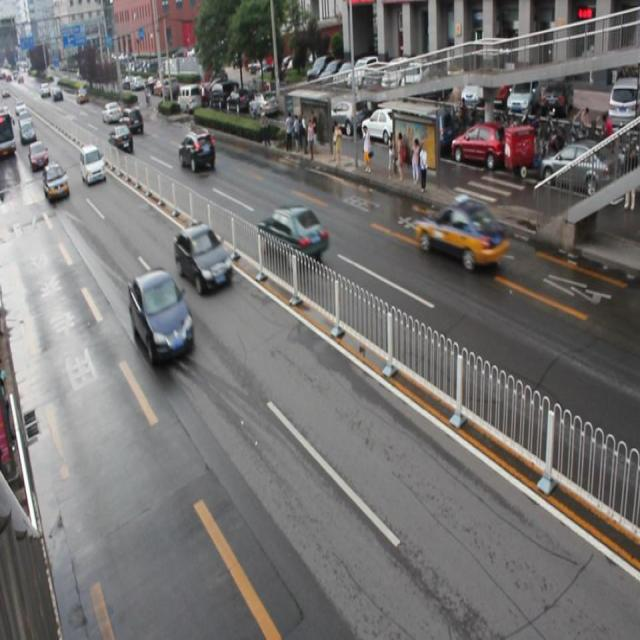car: (414, 194, 507, 271), (129, 270, 194, 364), (256, 205, 328, 266), (173, 223, 233, 291), (179, 130, 215, 173), (43, 161, 70, 202), (80, 144, 106, 183), (108, 124, 134, 153)
